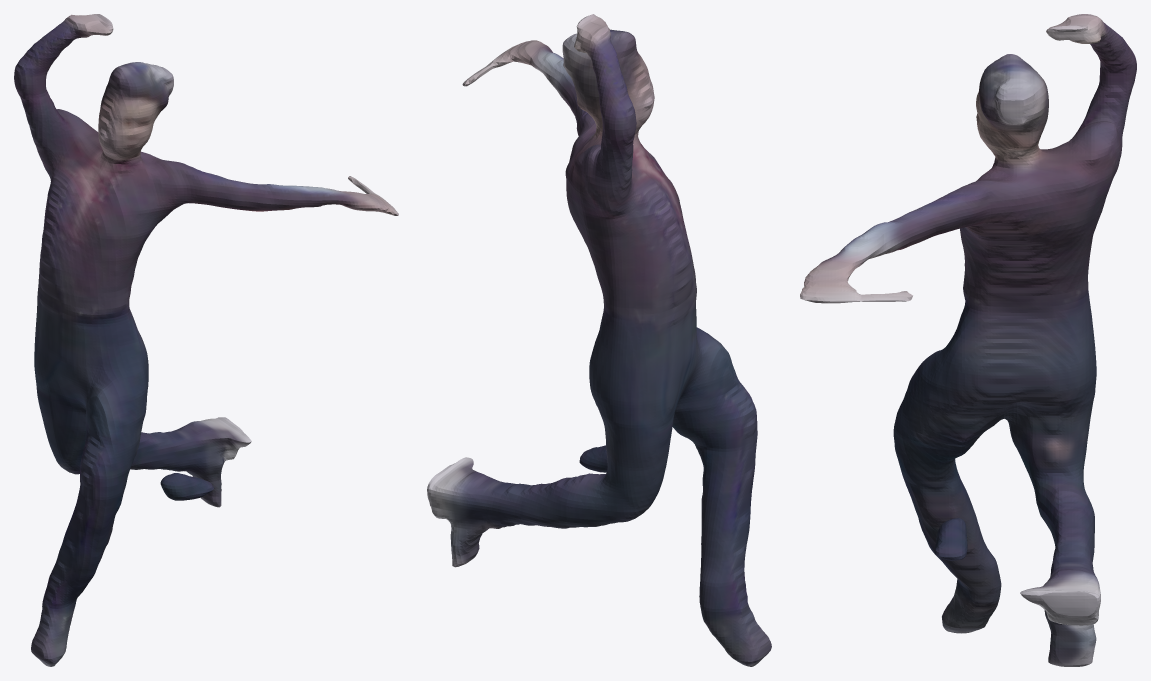
File: 0058_tex.glb
The picture shows the model from 3 angles, left to right: view 1: azimuth 30°, elevation 25°; view 2: azimuth 150°, elevation 25°; view 3: azimuth 270°, elevation 25°; orthographic projection. The views are drawn at different scales.
Parts seen in each view (by area): view 1: 0058_tex.obj; view 2: 0058_tex.obj; view 3: 0058_tex.obj.
Part boxes in pixels (<box>): 0058_tex.obj: <box>14,14,398,666</box>; 0058_tex.obj: <box>427,14,771,666</box>; 0058_tex.obj: <box>800,14,1136,666</box>.
Size of the model in its own units: 0.467 by 0.8866 by 0.4064.
